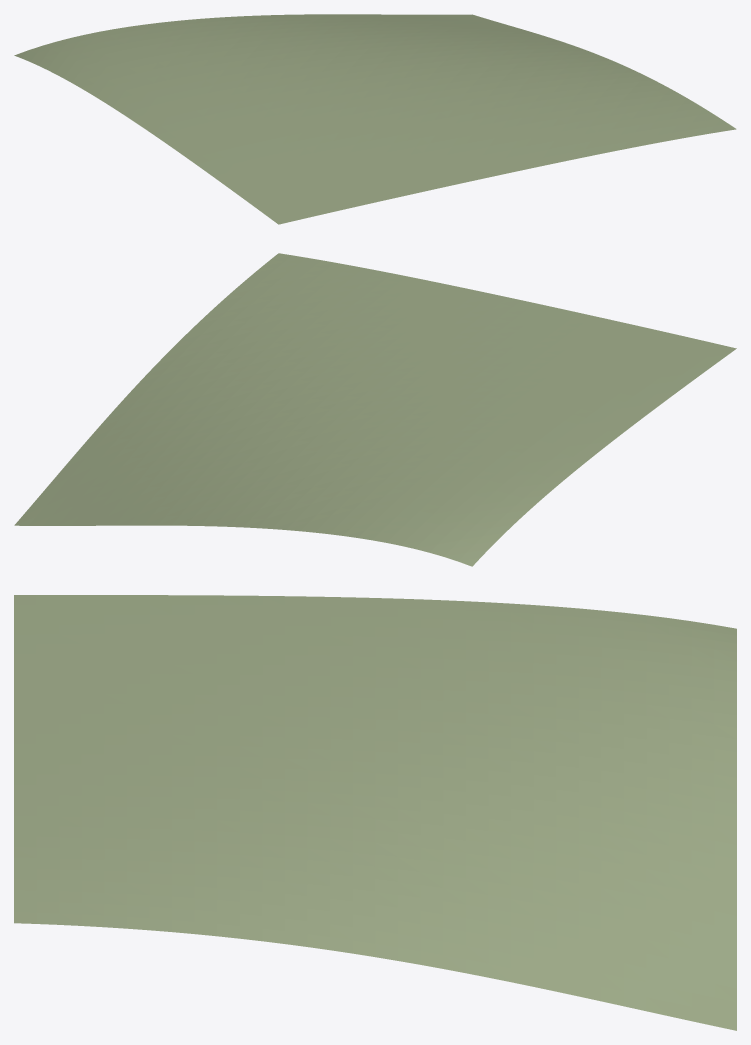
The model's file is expanse-13-16.glb.
3 views of the same model, one above another, from view 1: azimuth 30°, elevation 25°; view 2: azimuth 150°, elevation 25°; view 3: azimuth 270°, elevation 25° (orthographic). The views are drawn at different scales.
Parts seen in each view (by area): view 1: expanse-13-16; view 2: expanse-13-16; view 3: expanse-13-16.
Part boxes in pixels (x1,y1,x2,y2): expanse-13-16: (14,14,736,224); expanse-13-16: (14,253,736,566); expanse-13-16: (14,595,736,1030).
Size of the model in its own units: 256 by 50.94 by 256.
